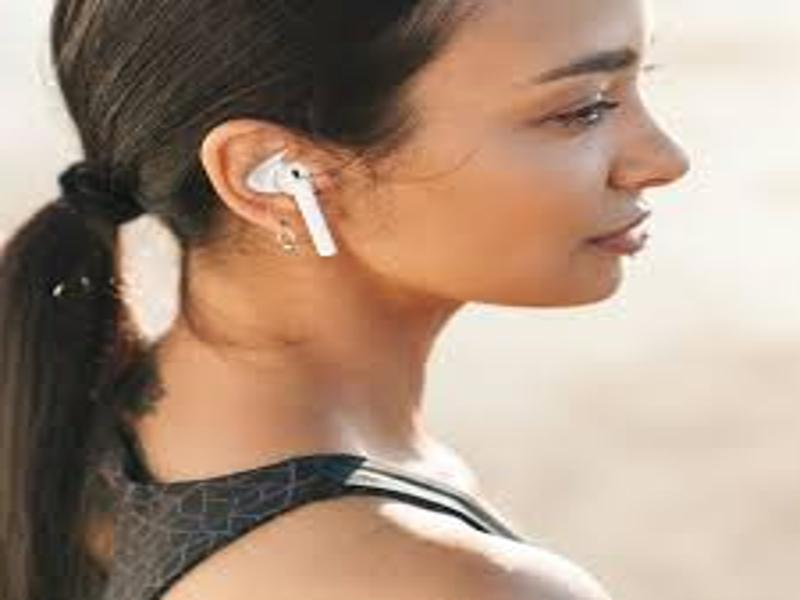headphone: (246, 148, 340, 261)
